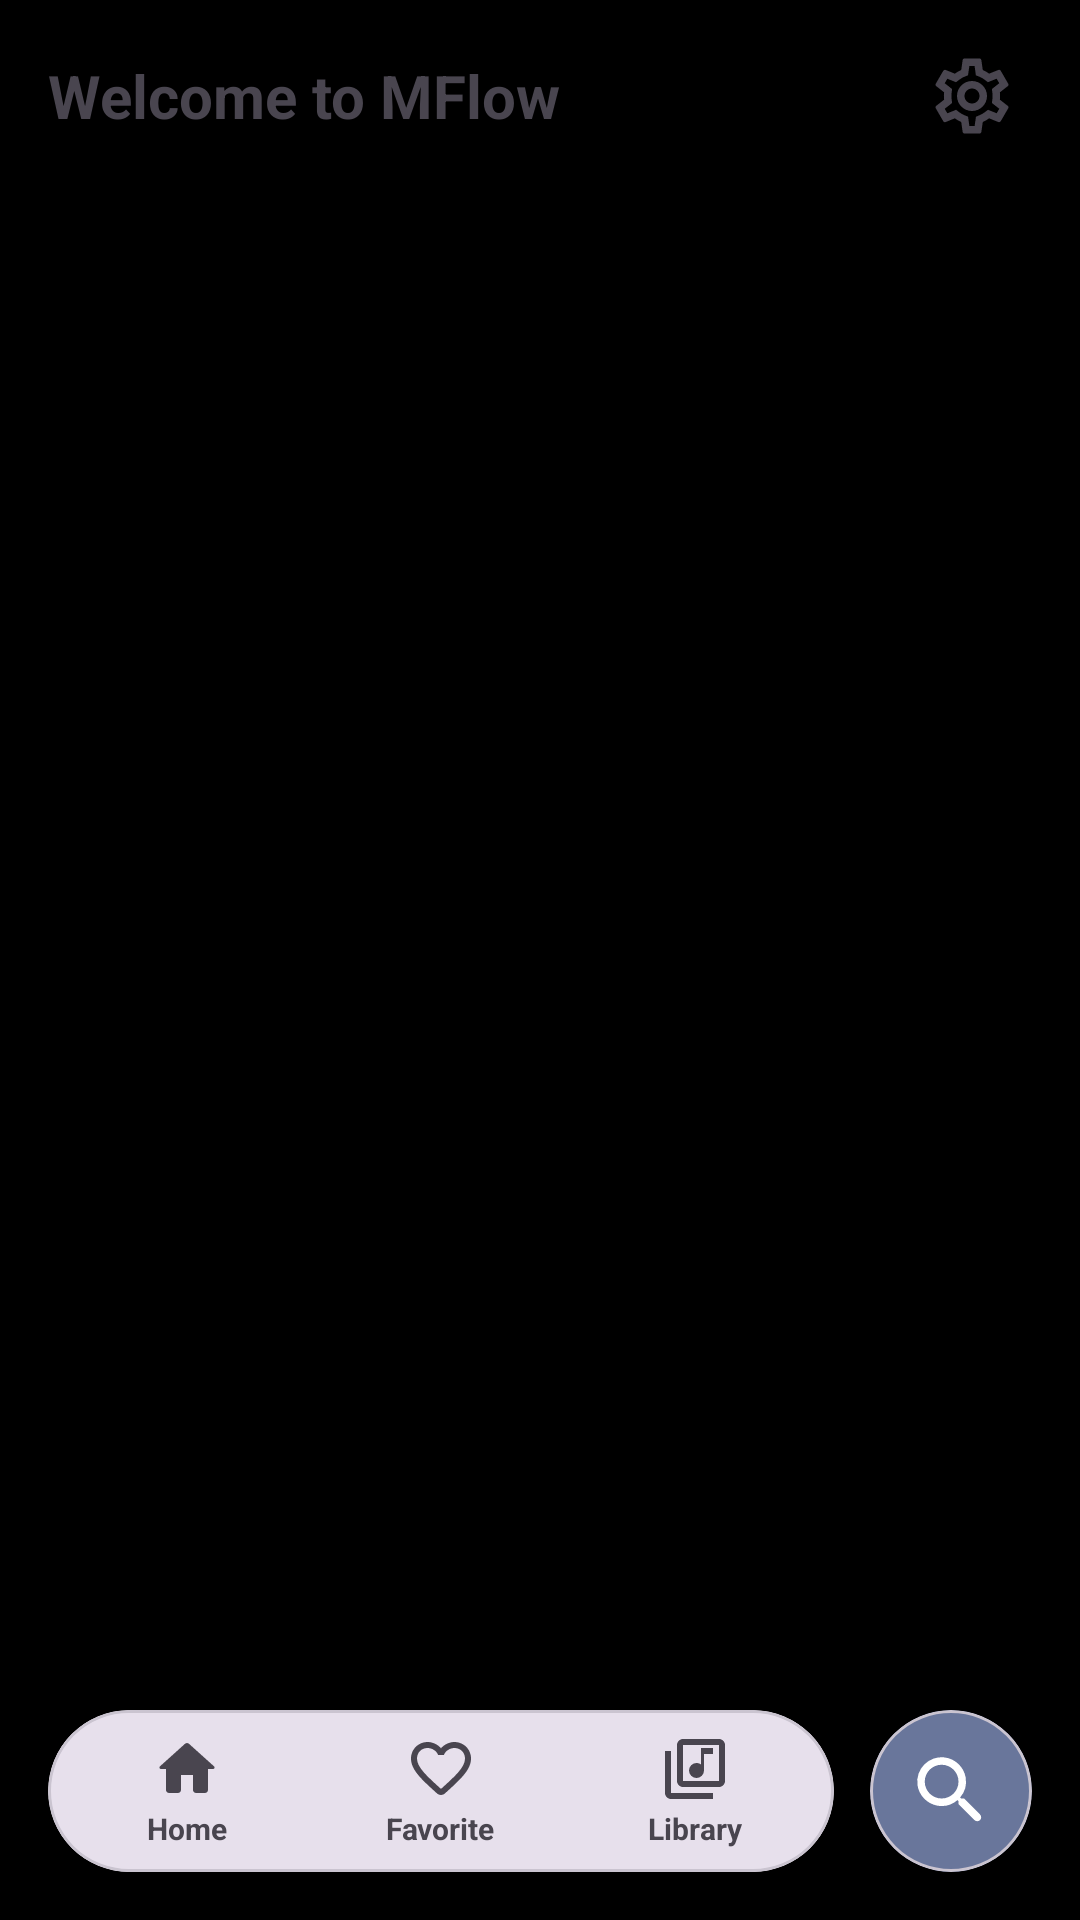

Screen size 1080×1920. Icon name, then its box in pixels as (x1, y1, x2, y2):
search: (870, 1710, 1032, 1872)
setting: (935, 58, 1009, 134)
